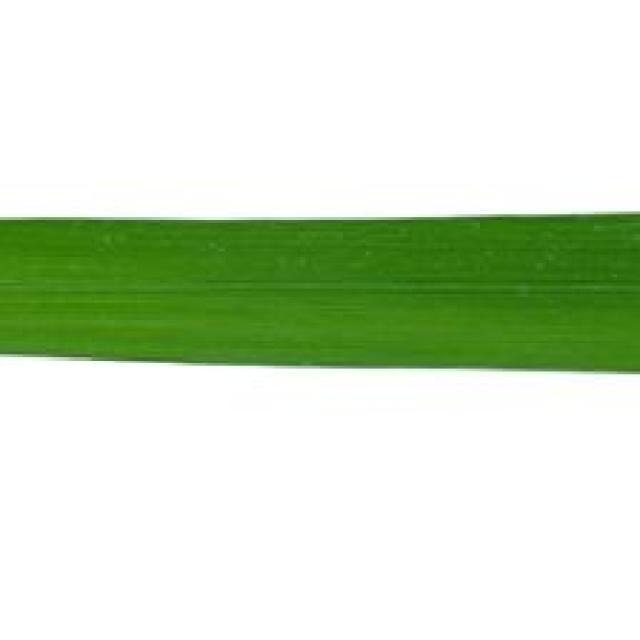Rice___Healthy_Rice_Plant: (0, 212, 637, 373)
